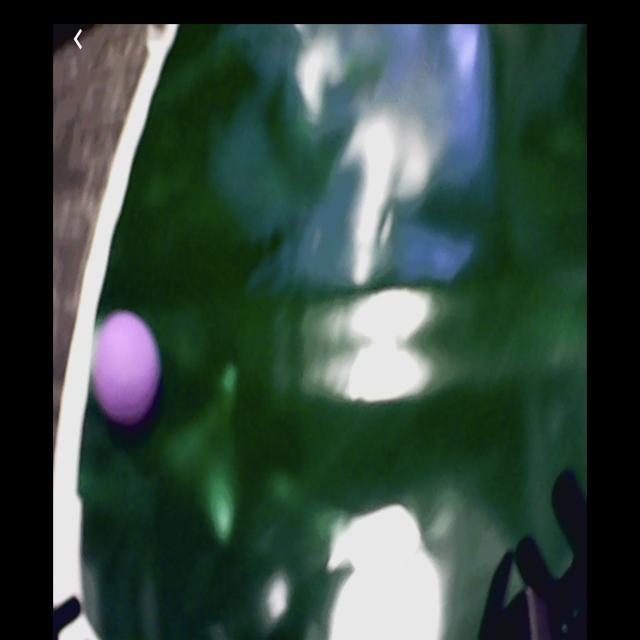ball: (91, 312, 161, 422)
